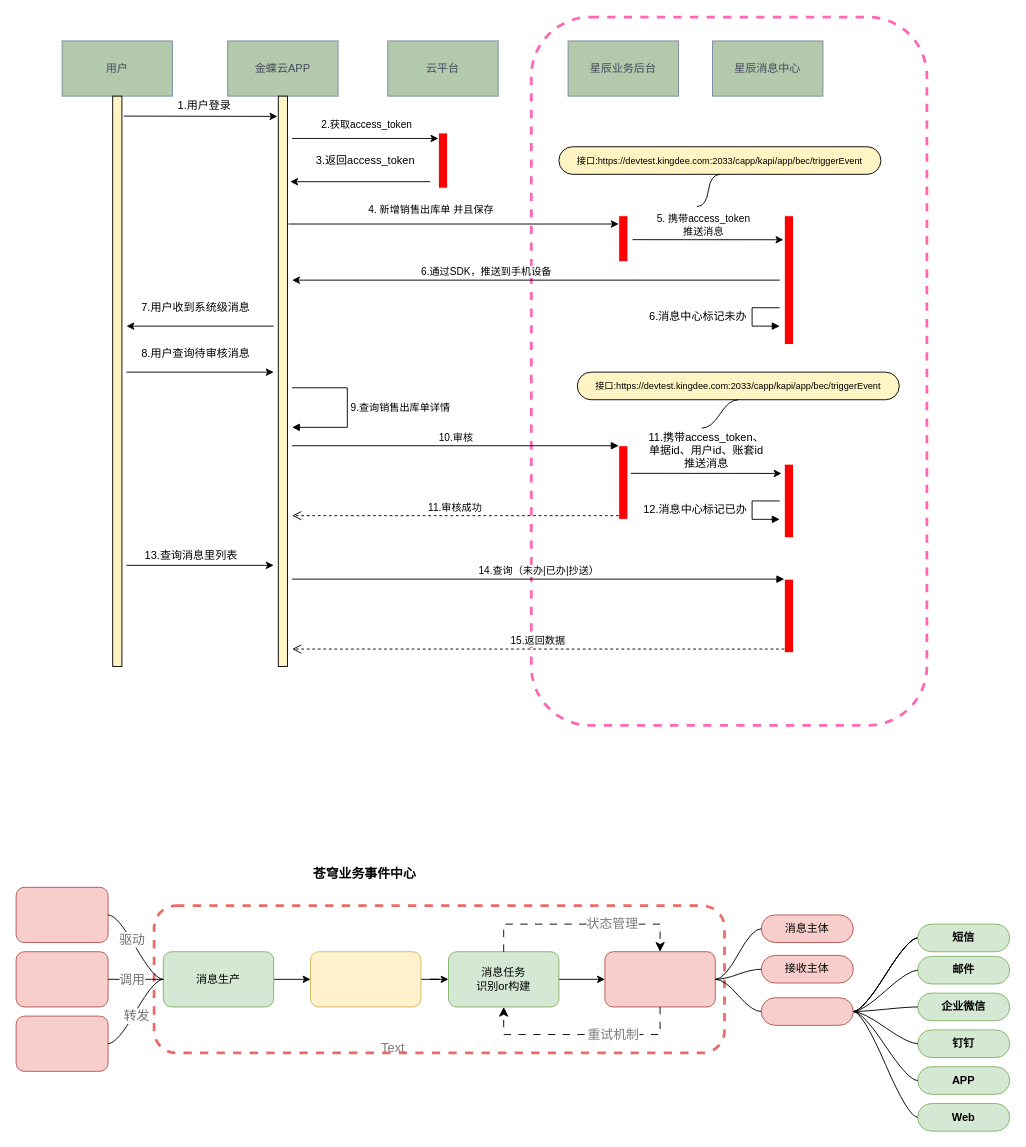
Some shapes in this 1026 by 1147 pixel diagram are drawn without their labels. The shapes that lost their labels are listed below. From the top down, each one's centre as x and y in pixels, then its label:
At (x=61, y=914): "定时任务".
At (x=61, y=979): "Api业务调用".
At (x=365, y=979): "消息管理中心".
At (x=659, y=979): "消息推送".
At (x=806, y=1011): "消息推送渠道".
At (x=61, y=1043): "MsgQueue队列".
